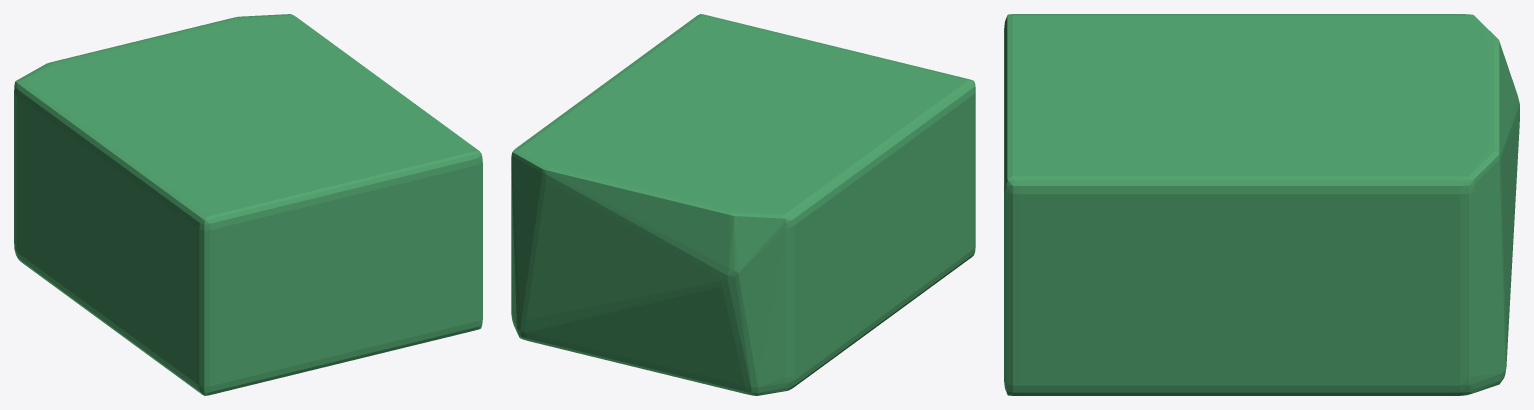
The model's file is torso_link_part_3.obj.
3 renders of one model, left to right at view 1: azimuth 30°, elevation 25°; view 2: azimuth 150°, elevation 25°; view 3: azimuth 270°, elevation 25°, orthographic. The views are drawn at different scales.
Bounding box in the file's own units: 0.1495 × 0.0895 × 0.1919.
